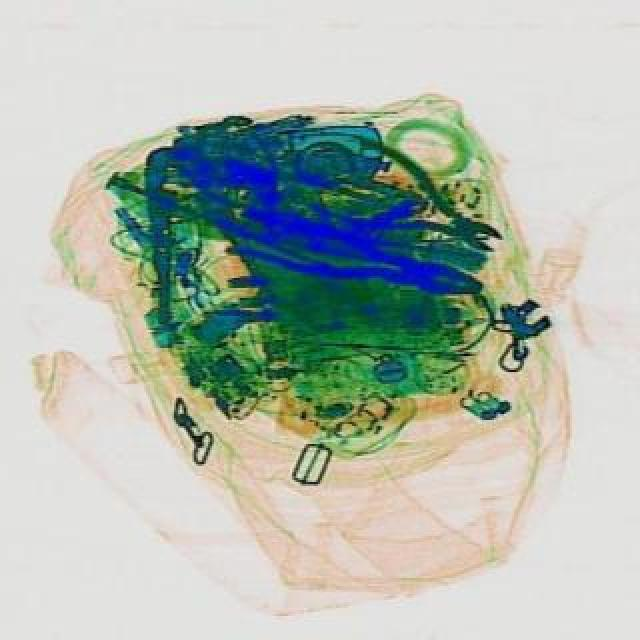wrench: (304, 132, 520, 284), (220, 204, 488, 320)
